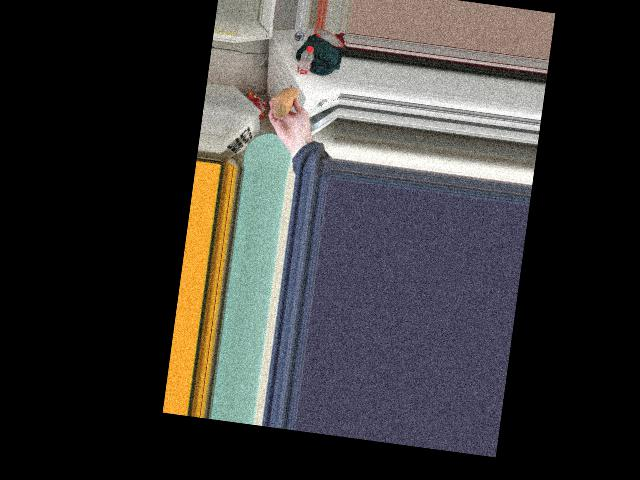sweet_potato: (272, 85, 298, 116)
